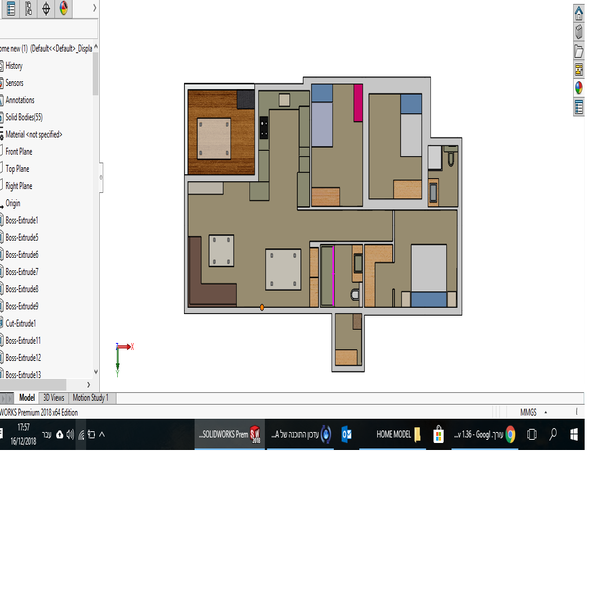wall: (177, 304, 467, 317), (453, 130, 467, 319), (416, 73, 434, 207), (356, 88, 373, 207), (177, 178, 192, 309), (362, 71, 433, 97), (186, 170, 257, 189), (365, 199, 436, 214), (250, 79, 260, 178), (254, 82, 311, 96), (423, 131, 463, 150), (327, 316, 339, 370), (327, 364, 367, 378), (360, 320, 369, 374)
